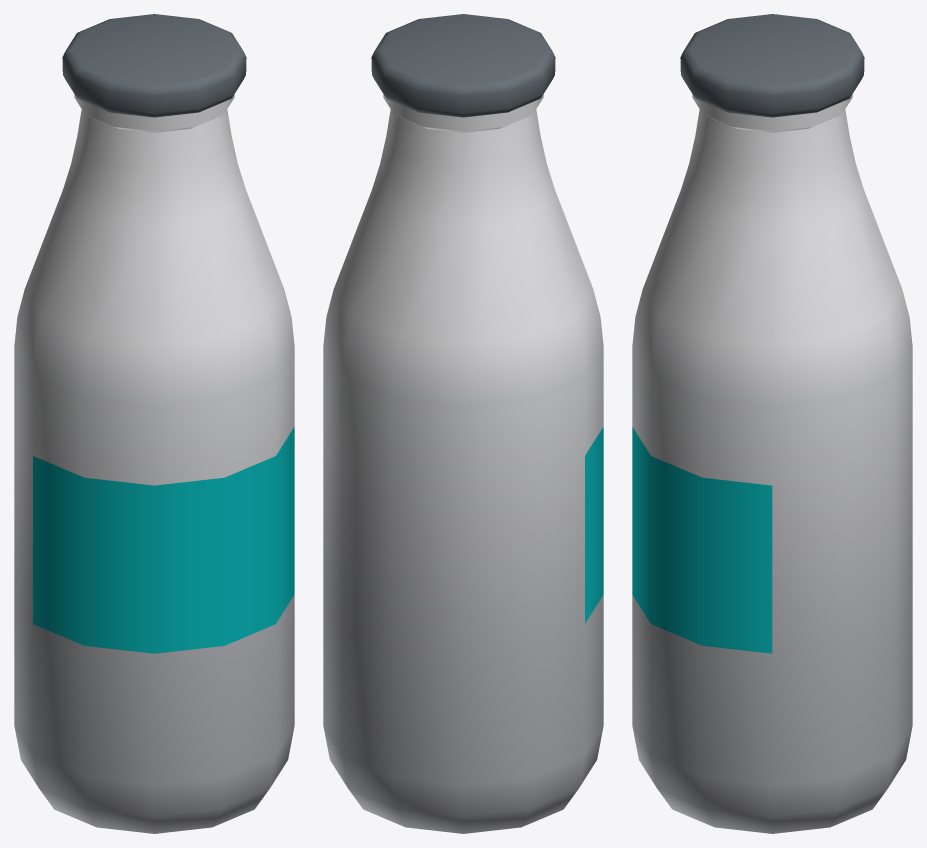
The model's file is Milk_botle.fbx.
3 renders of one model, left to right at view 1: azimuth 30°, elevation 25°; view 2: azimuth 150°, elevation 25°; view 3: azimuth 270°, elevation 25°, orthographic.
Parts seen in each view (by area): view 1: Milk_botle; view 2: Milk_botle; view 3: Milk_botle.
Boxes of the visible parts, x1,y1,x2,y2 form: Milk_botle: (14,14,294,833); Milk_botle: (323,14,603,833); Milk_botle: (632,14,912,833).
Bounding box in the file's own units: 84.36 × 84.36 × 247.
